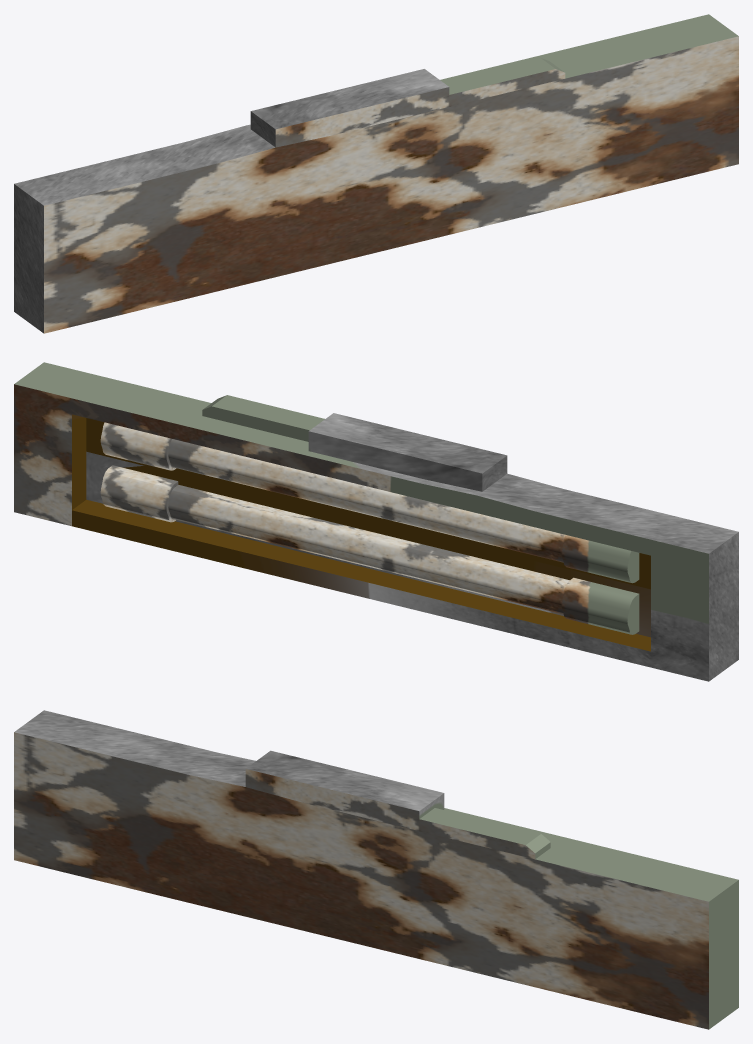
The model's file is light.fbx.
3 renders of one model, top to bottom at view 1: azimuth 30°, elevation 25°; view 2: azimuth 150°, elevation 25°; view 3: azimuth 330°, elevation 25°, orthographic.
Parts seen in each view (by area): view 1: light; view 2: light; view 3: light.
Boxes of the visible parts, x1=… form: light: x1=14, y1=14, x2=738, y2=333; light: x1=14, y1=362, x2=738, y2=681; light: x1=14, y1=710, x2=738, y2=1029.
Bounding box in the file's own units: 2.18 × 0.443 × 0.1633.
